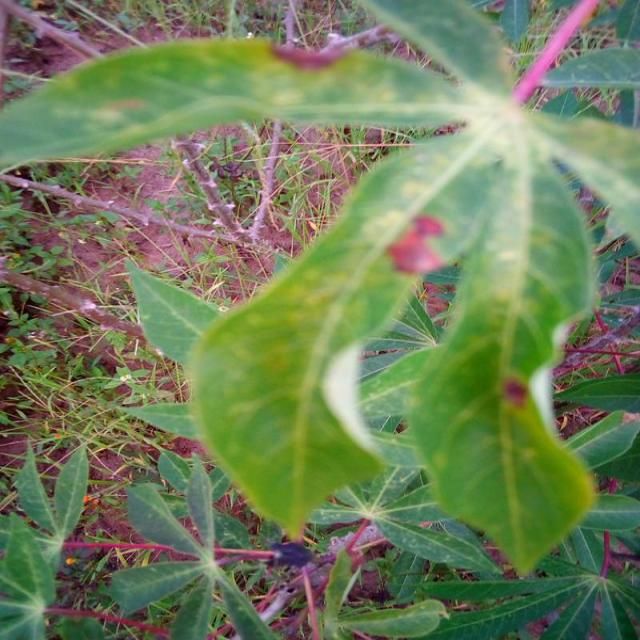cassava leaf: (183, 124, 599, 574), (406, 149, 598, 576)
